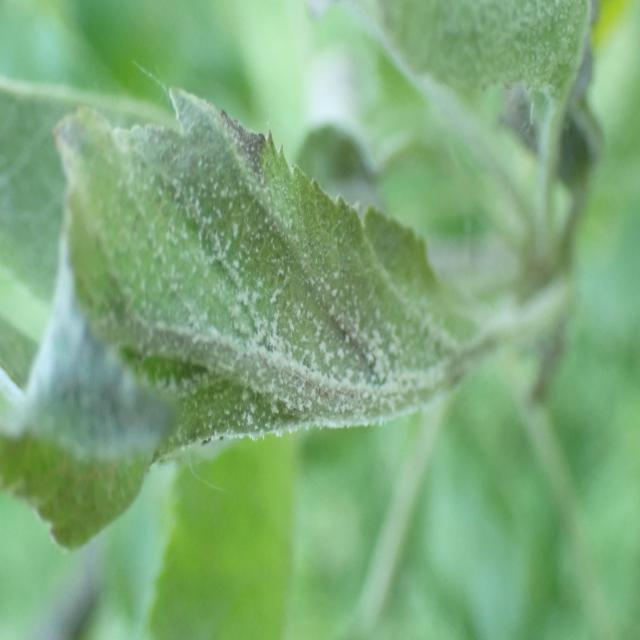Powdery_mildew: (0, 47, 482, 567), (387, 0, 599, 429)
